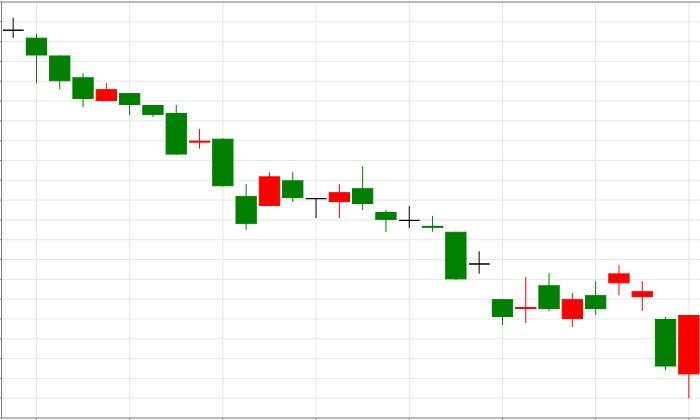bullish_engulfing_rise: (608, 265, 700, 398)
